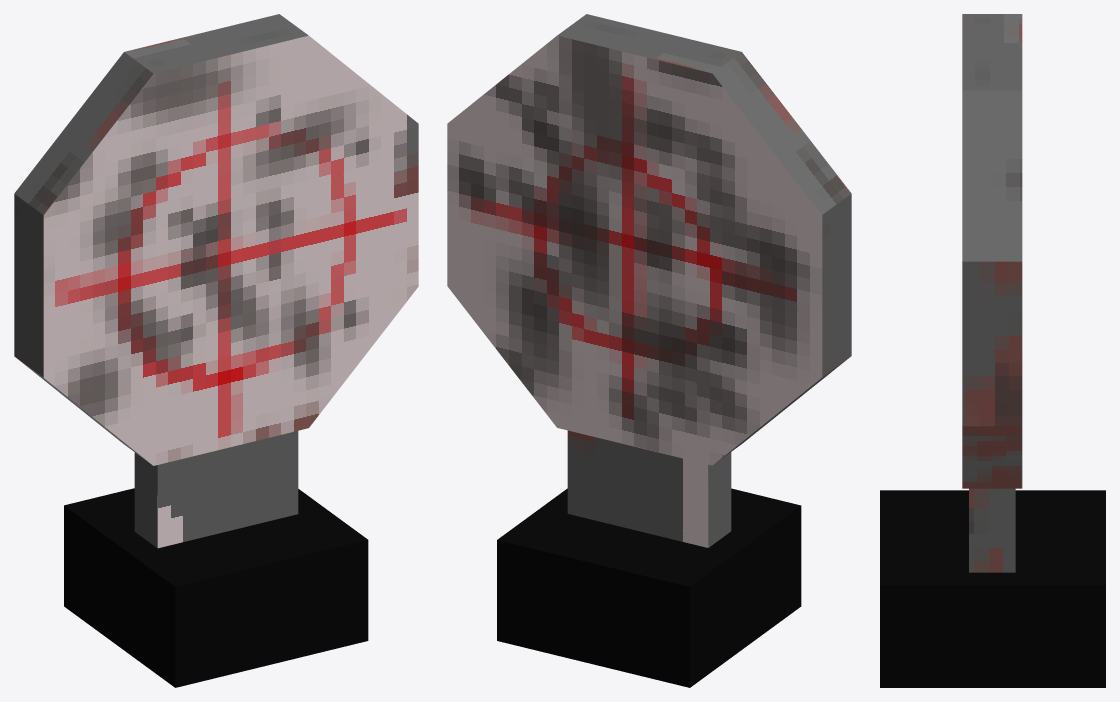
File: target.glb
3 views of the same model, side by side, from view 1: azimuth 30°, elevation 25°; view 2: azimuth 150°, elevation 25°; view 3: azimuth 270°, elevation 25° (orthographic).
Parts seen in each view (by area): view 1: target_head, target_base; view 2: target_head, target_base; view 3: target_base, target_head.
Part boxes in pixels (x1,y1,x2,y2): target_head: [14, 14, 418, 548]; target_base: [64, 488, 368, 687]; target_head: [447, 14, 851, 547]; target_base: [497, 488, 801, 687]; target_base: [880, 490, 1105, 687]; target_head: [962, 14, 1022, 572].
Bounding box in the file's own units: 0.3886 × 0.5744 × 0.2.
Materials: 1 (1 with a texture image).
